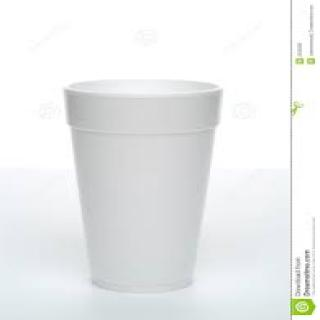PAPER: (64, 77, 220, 293)
